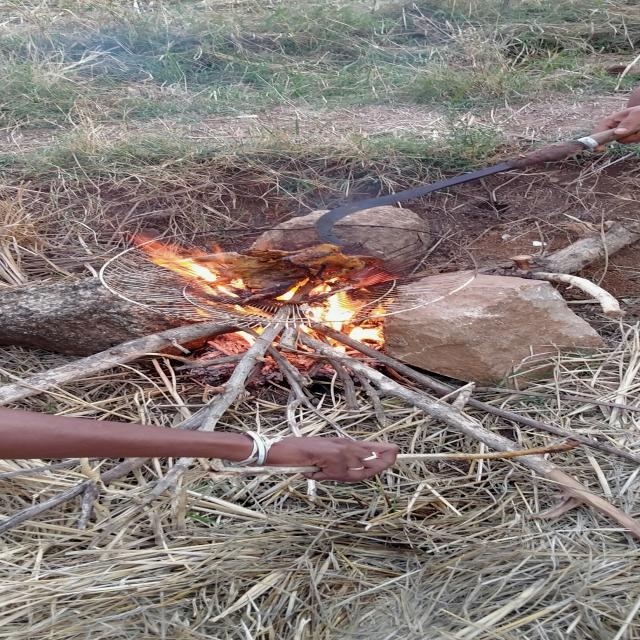firerotation: (120, 228, 397, 348)
